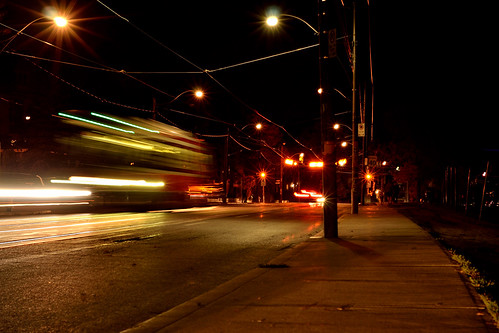sidewalk: (163, 204, 465, 333)
street: (1, 199, 343, 333)
